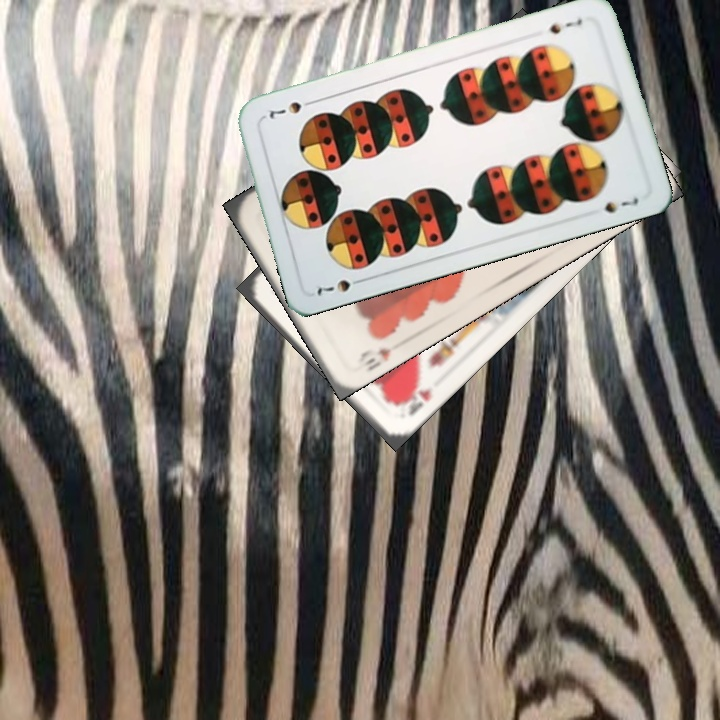H10: (353, 338, 405, 373)
HK: (392, 379, 435, 419)
S7: (311, 274, 368, 298), (541, 14, 585, 37)
